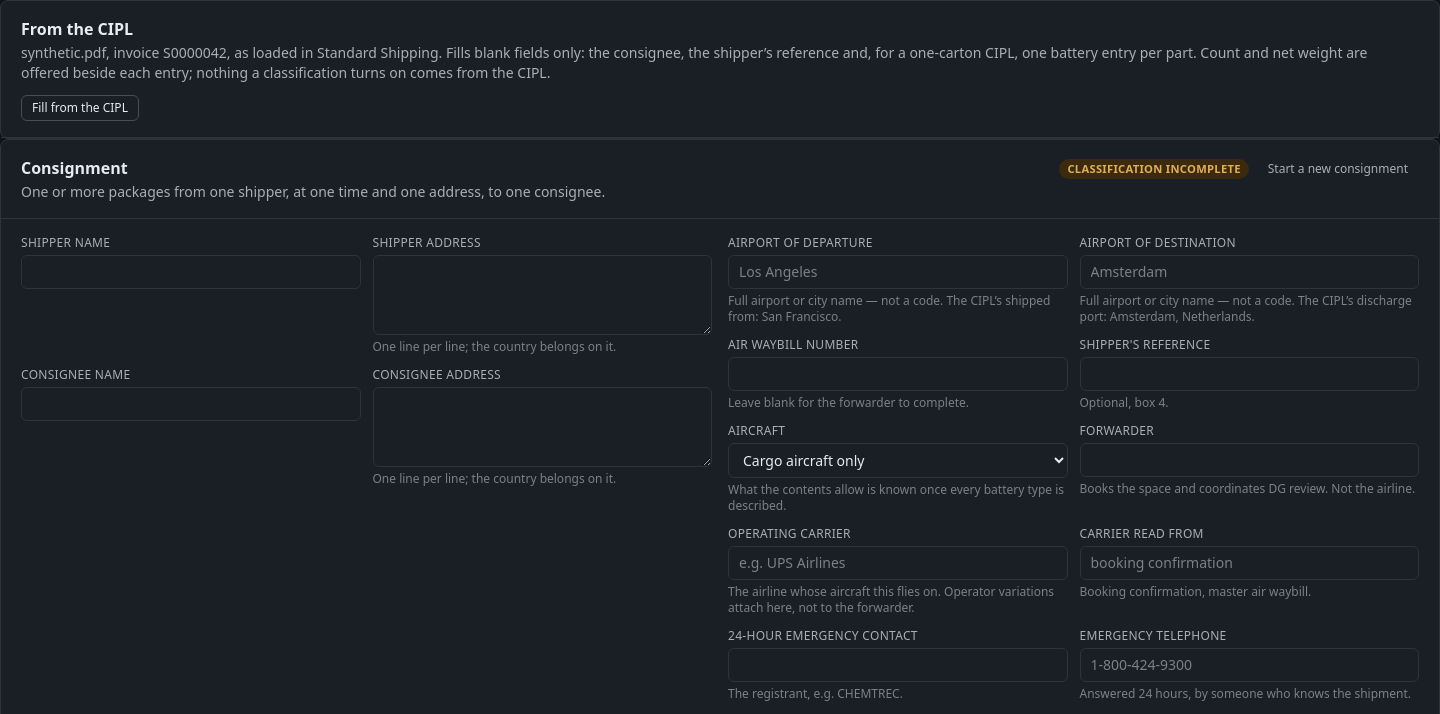
Test: filling the consignment from the CIPL › offers the package count on the package its entries went into, on a click
Click the button "Fill from the CIPL" at [80, 108], box [21,95,139,121]
(page scrolled)
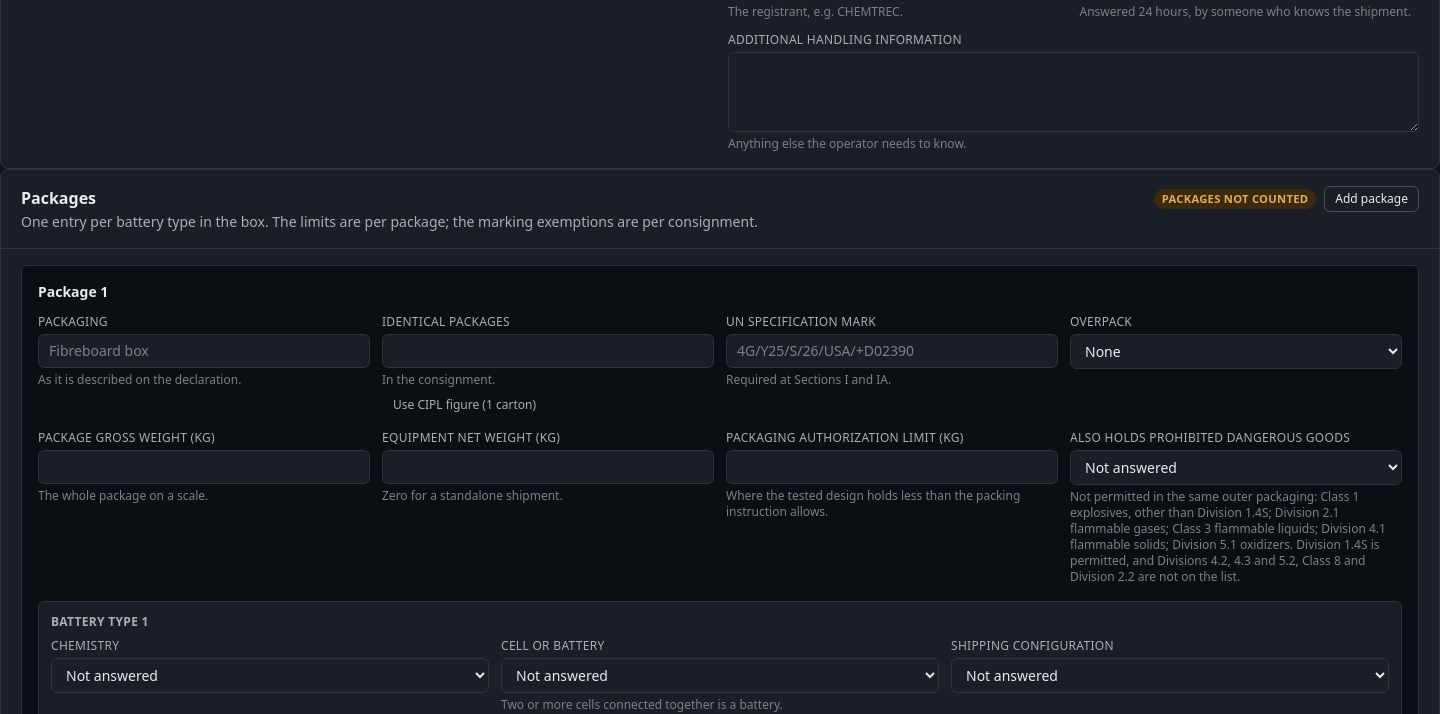
Click the button "Use CIPL figure (1 carton)" at [464, 405], box [382,392,547,418]
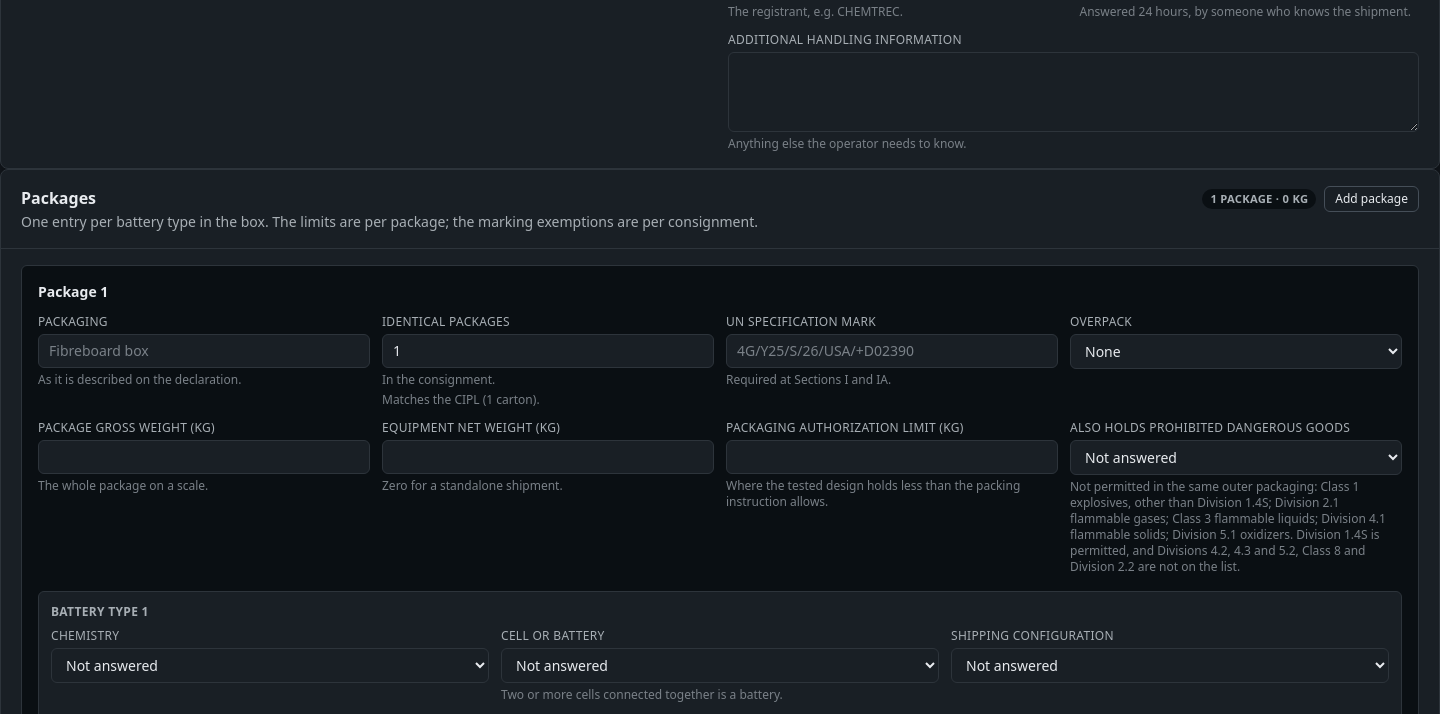
Expected: the text "Matches the CIPL (1 carton)." is shown, [382,391,540,408]
